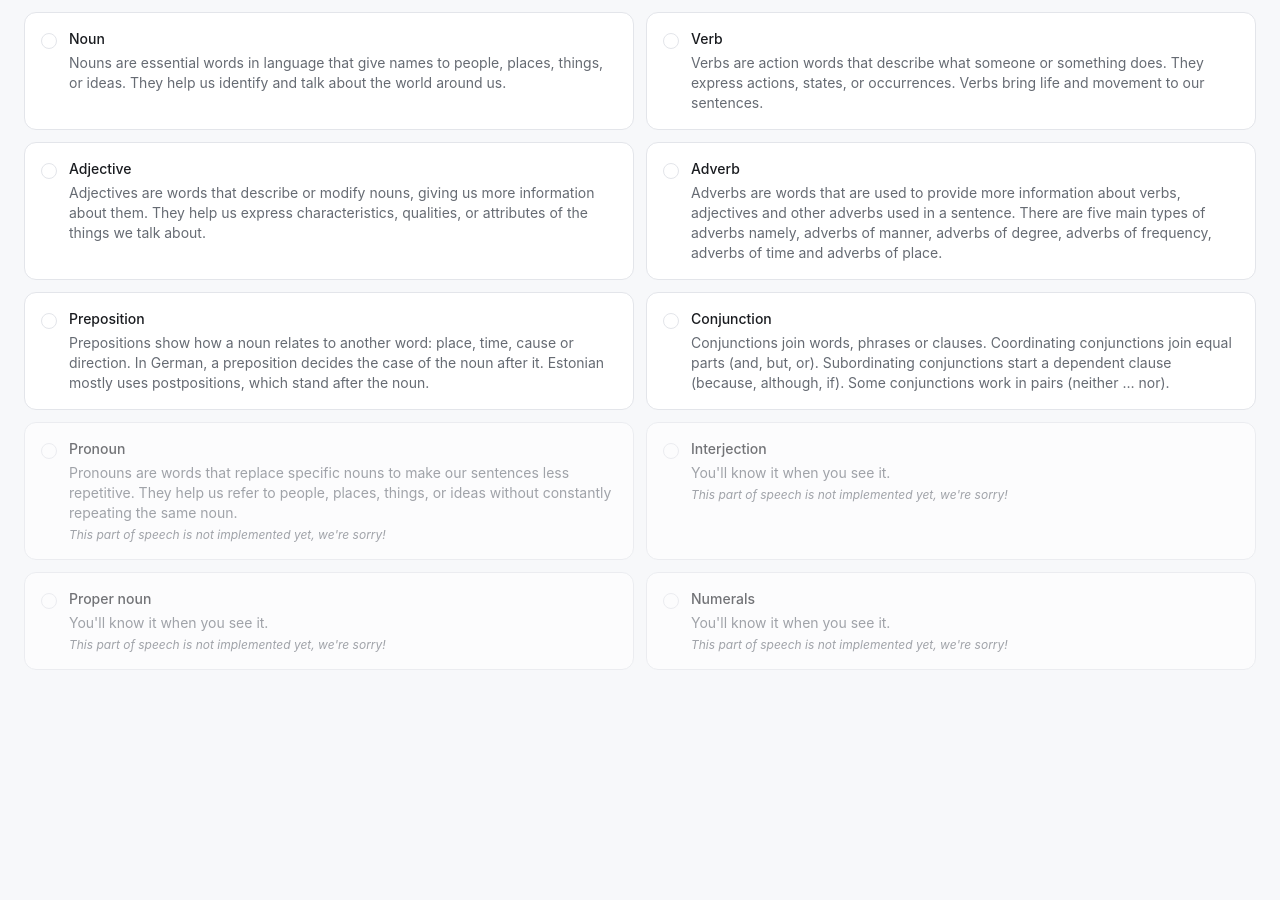
it: WordForm — create mode › gates on part of speech, then hides the gate once Noun is picked
The image size is (1280, 900).
Click the 1st radio button named "Noun" at (49, 41), box [41,33,57,49]
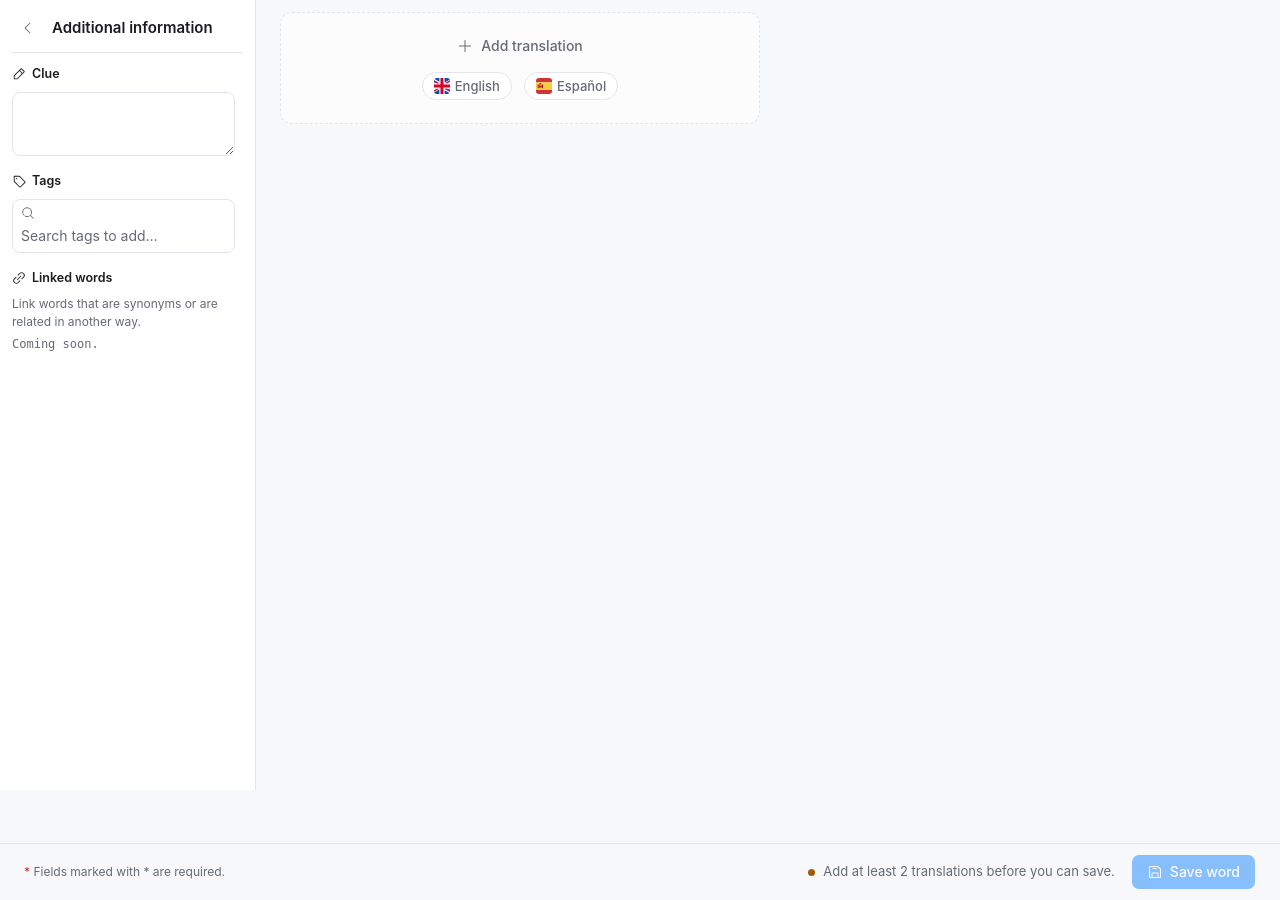
Check: the element "Add translation" is shown, box [280,12,760,124]
